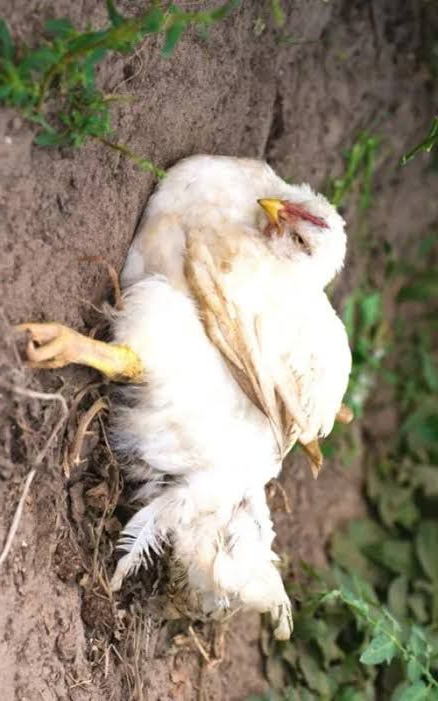Unhealthy: (23, 135, 345, 638)
